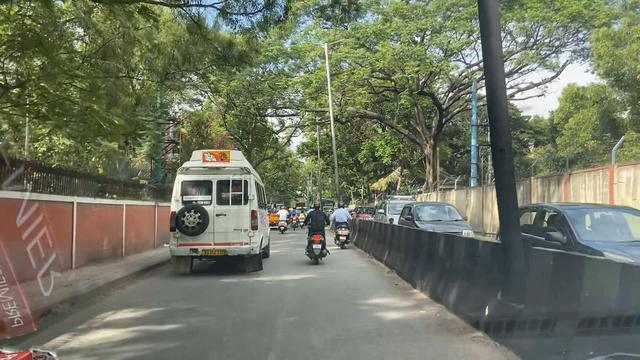HMV: (172, 153, 258, 273)
LMV: (309, 200, 328, 267), (332, 203, 353, 246)
